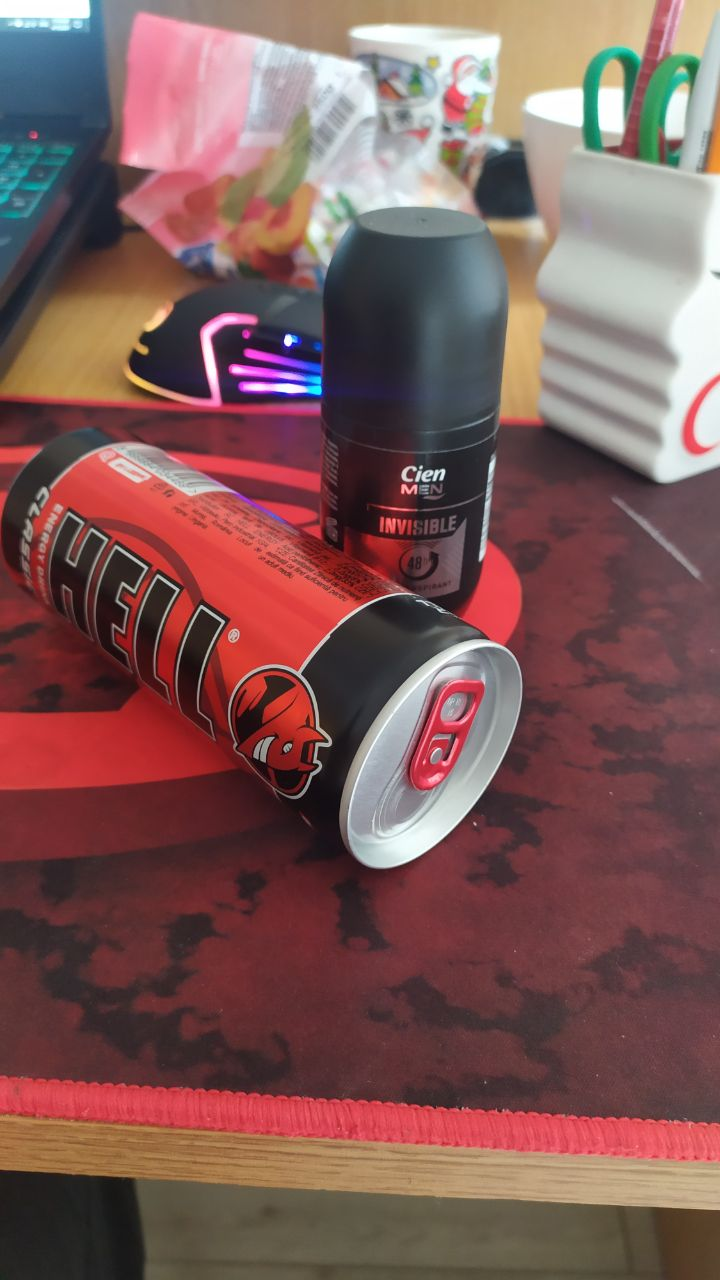Can: (3, 428, 528, 881)
